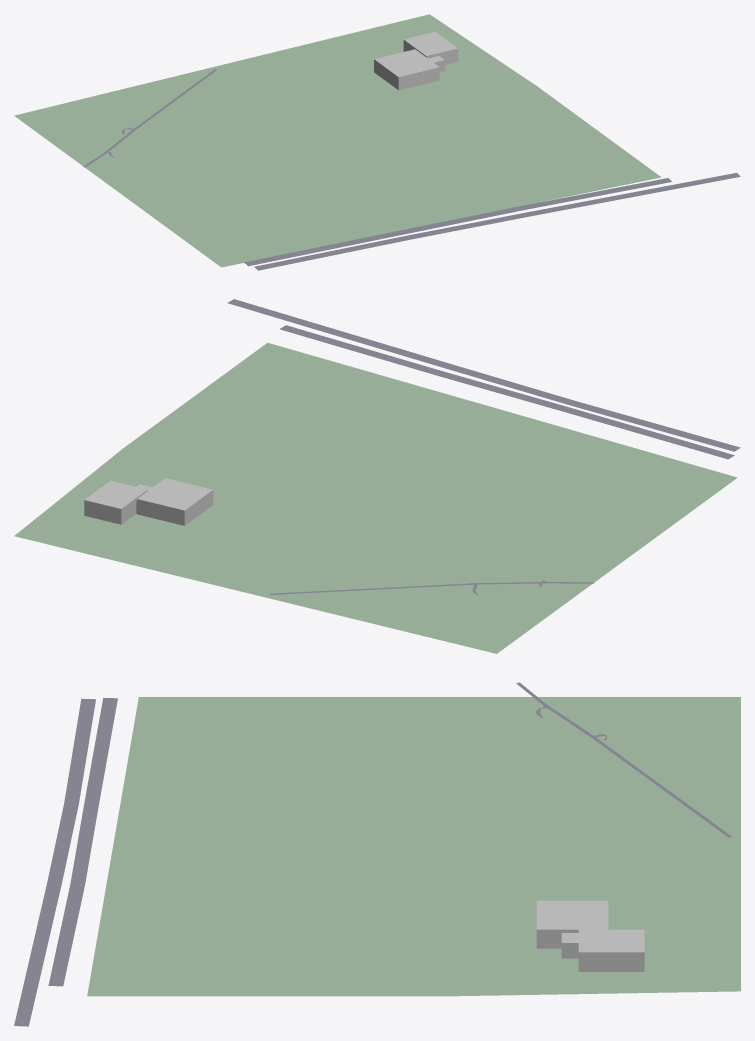
Rendered from 123_128_mid.glb.
3 views of the same model, one above another, from view 1: azimuth 30°, elevation 25°; view 2: azimuth 150°, elevation 25°; view 3: azimuth 270°, elevation 25° (orthographic). The views are drawn at different scales.
Size of the model in its own units: 574 by 15.8 by 513.
